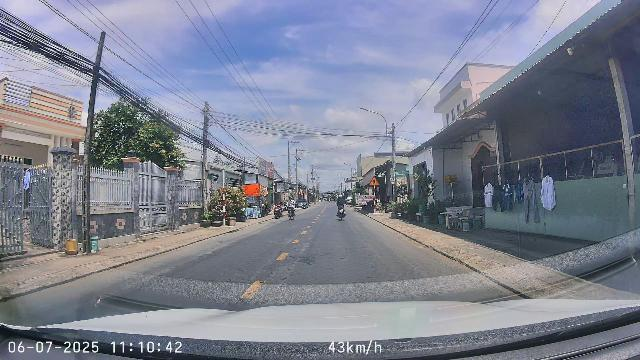207-giao-nhau-voi-duong-khong-uu-tien: (369, 176, 380, 186)
